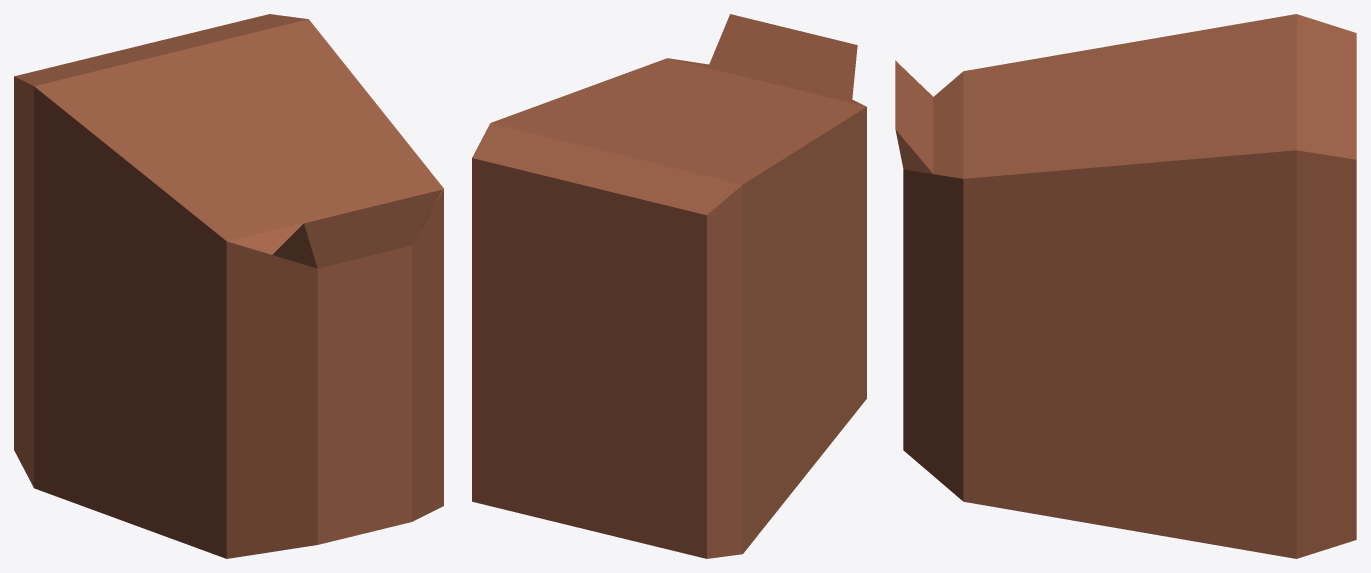
Rendered from bag.obj.
3 views of the same model, side by side, from view 1: azimuth 30°, elevation 25°; view 2: azimuth 150°, elevation 25°; view 3: azimuth 270°, elevation 25° (orthographic). The views are drawn at different scales.
Visible parts, largest first — view 1: bag.000_bag.000; view 2: bag.000_bag.000; view 3: bag.000_bag.000.
Part boxes in pixels (box(x1,y1,x2,y2)): bag.000_bag.000: box(14, 14, 443, 558); bag.000_bag.000: box(472, 14, 866, 558); bag.000_bag.000: box(895, 14, 1356, 558).
Size of the model in its own units: 0.1101 by 0.1539 by 0.1574.
